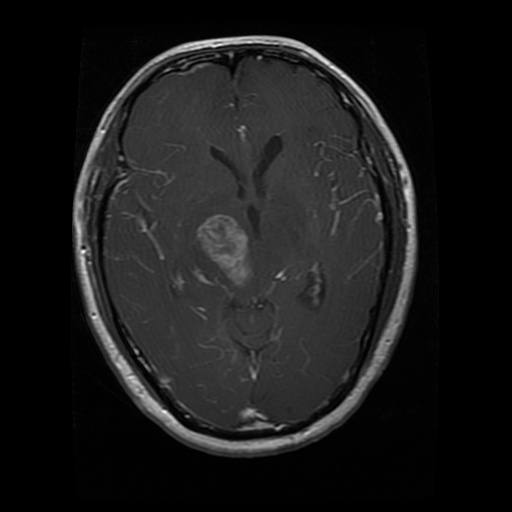glioma: (188, 212, 256, 293)
